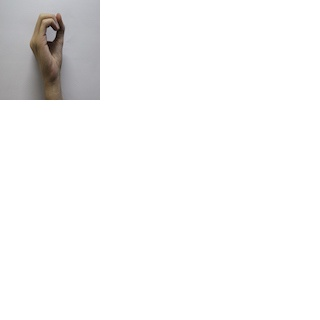rock: (24, 10, 73, 85)
